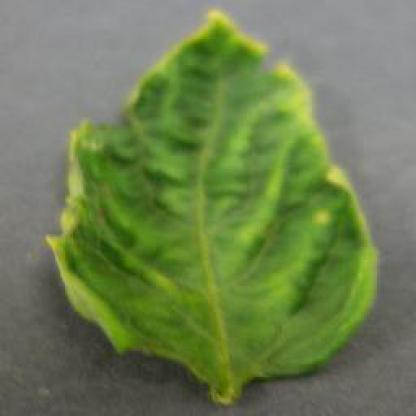bad leaf: (47, 11, 369, 372)
